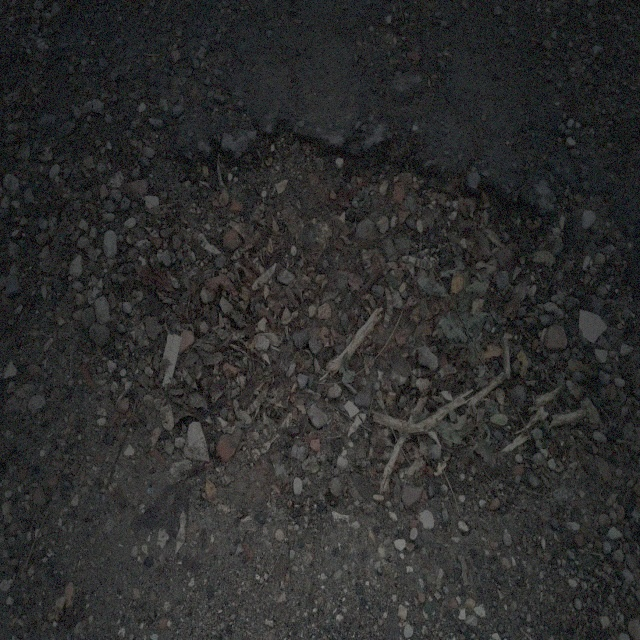pothole: (136, 98, 594, 540)
